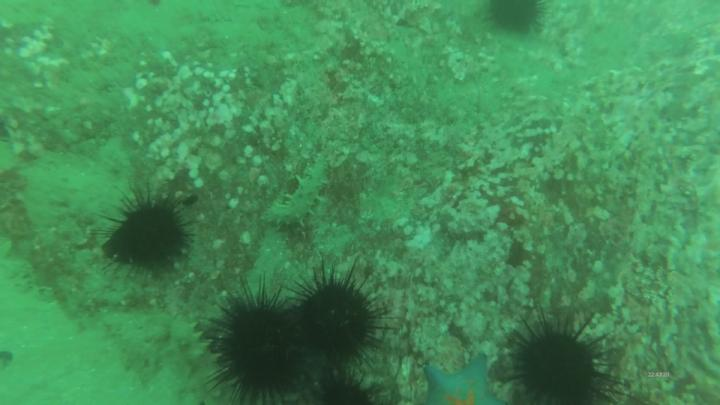echinus: (204, 277, 309, 404), (501, 305, 628, 405), (284, 260, 390, 370), (96, 184, 199, 286), (291, 369, 393, 405), (478, 1, 552, 38)
holothurian: (169, 315, 221, 405), (265, 156, 328, 228)
starfish: (416, 346, 502, 405)
